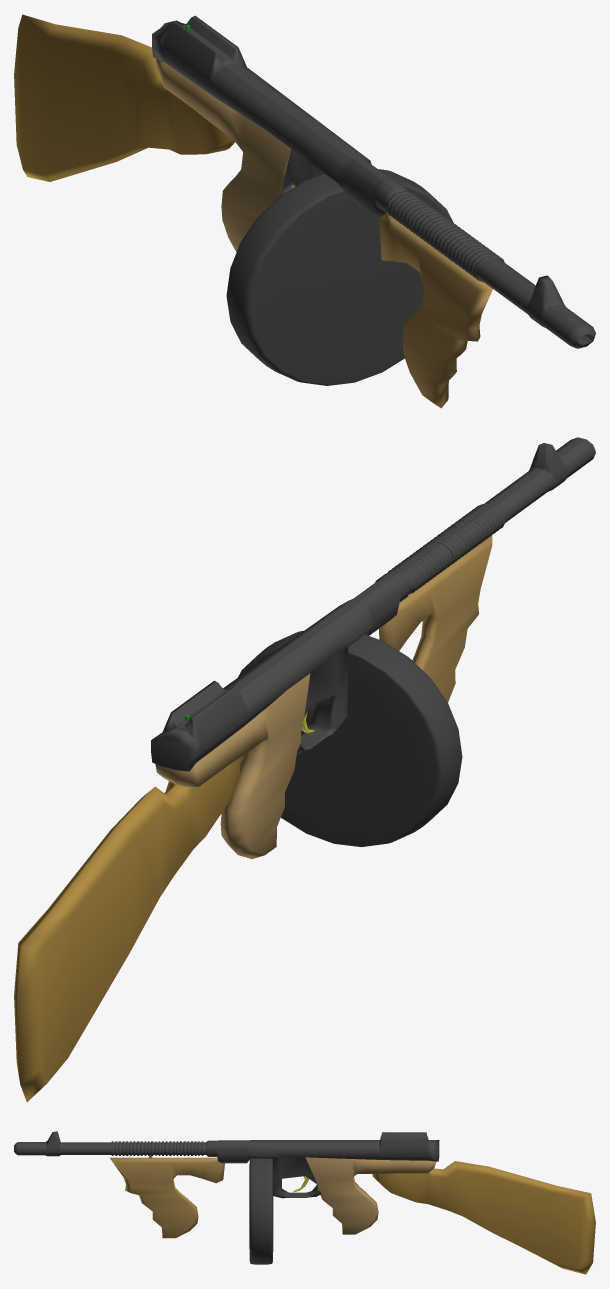
Rendered from TommyGun.fbx.
3 renders of one model, top to bottom at view 1: azimuth 30°, elevation 25°; view 2: azimuth 150°, elevation 25°; view 3: azimuth 270°, elevation 25°, orthographic. The views are drawn at different scales.
Visible parts, largest first — view 1: polySurface3; view 2: polySurface3; view 3: polySurface3.
Boxes of the visible parts, left/top/right/bottom form: polySurface3: left=14, top=14, right=595, bottom=408; polySurface3: left=14, top=437, right=595, bottom=1102; polySurface3: left=14, top=1131, right=595, bottom=1274.
Bounding box in the file's own units: 5 × 6.01 × 22.27.
